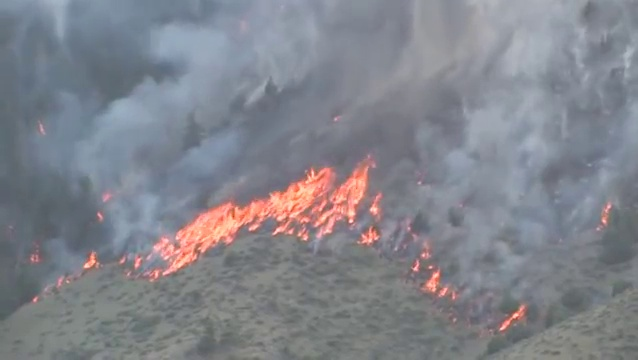fire: (148, 161, 372, 268), (367, 190, 382, 216), (360, 224, 377, 243), (425, 271, 440, 290), (601, 202, 611, 221)
